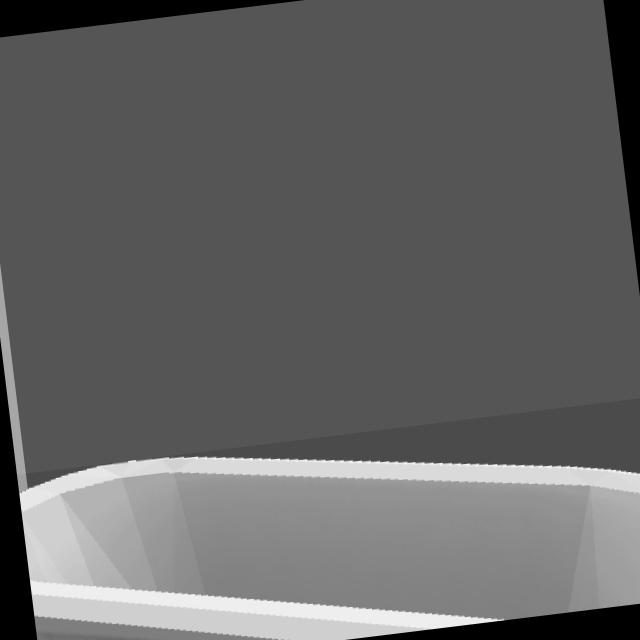bathtube: (19, 456, 640, 640)
